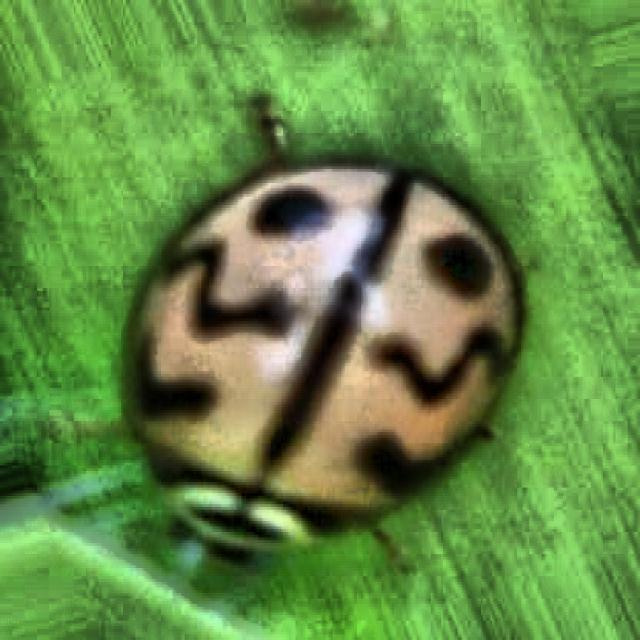Asian-Lady-beetle: (71, 46, 608, 640)
